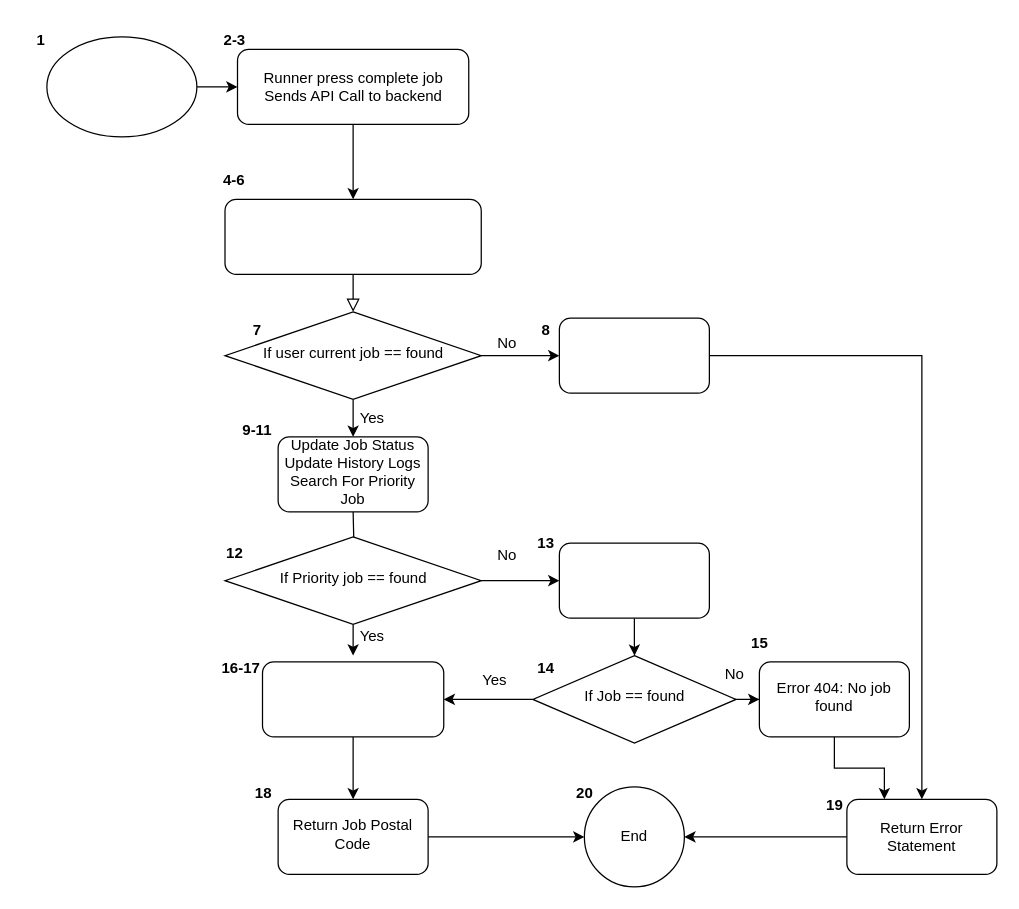
The diagram is 1019 pixels wide and 909 high, and some of its shapes have lost their labels. Each missing label, with the centre of its shape:
"Backend Received API Call Backend query data username = response.data.username" belongs at (x=352, y=236).
"Error 404: User no job assigned" belongs at (x=633, y=355).
"Search for non-priority jobs" belongs at (x=633, y=580).
"Start" belongs at (x=121, y=86).
"Update Job Status Update Runner Status" belongs at (x=352, y=699).
